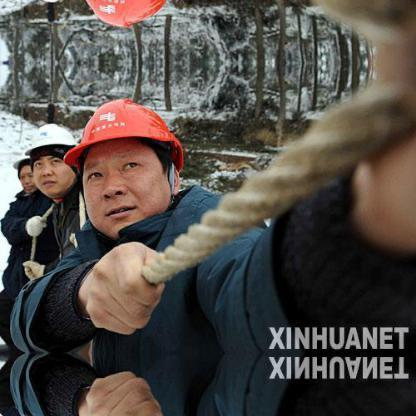helmet: (59, 93, 191, 173), (24, 119, 83, 165)
